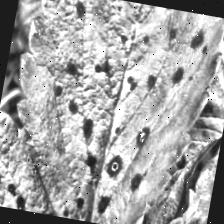Leaf Spot: (0, 0, 224, 224), (136, 53, 224, 224), (0, 108, 101, 220), (182, 126, 222, 223), (98, 190, 208, 224)
